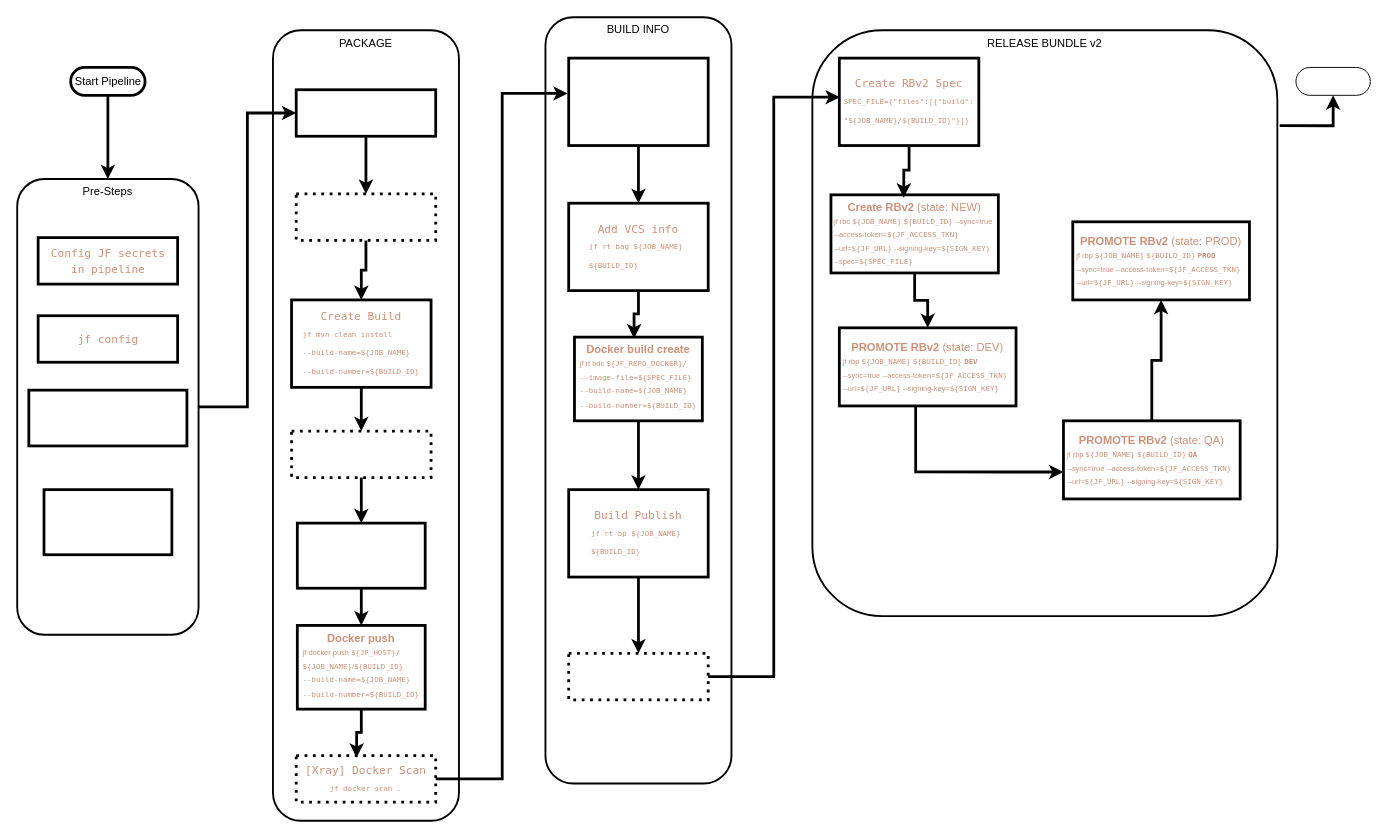
Some shapes in this 1387 by 837 pixel diagram are drawn without their labels. Each missing label, with the centre of its shape:
[Xray] Audit FOSS jf audit --mvn: the point at 365,216
[Xray] Build Scan jf bs ${ JOB_NAME } ${ BUILD_ID }: the point at 638,676
[Xray] Scan All jf scan .: the point at 361,453
Clone VCS git clone git@github.com: the point at 365,112
Collect Env vars jf rt bce ${ JOB_NAME } ${BUILD_ID}: the point at 638,101
Docker config docker login ${ JF_HOST } ${ JF_USER } ${ JF_PWD }: the point at 107,522
Docker image docker image build . -t ${ JF_HOST }/ ${ JOB_NAME } / ${ BUILD_ID }: the point at 360,555
end: the point at 1332,80
environment variables export PACK_CATEGORY='webapp': the point at 107,417
